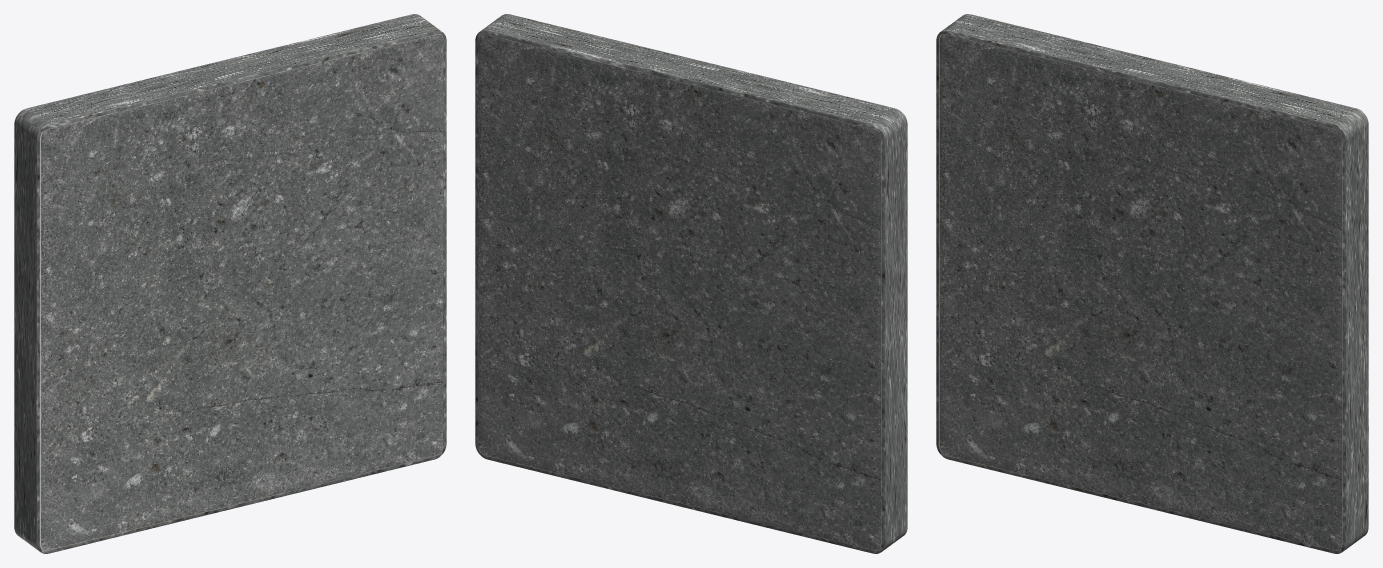
The model's file is andesite-darkgrey-polish.glb.
The picture shows the model from 3 angles, left to right: view 1: azimuth 30°, elevation 25°; view 2: azimuth 150°, elevation 25°; view 3: azimuth 330°, elevation 25°; orthographic projection.
Parts seen in each view (by area): view 1: Cube; view 2: Cube; view 3: Cube.
Part boxes in pixels (box(x1,y1,x2,y2)): Cube: box(14, 14, 446, 553); Cube: box(475, 14, 907, 553); Cube: box(936, 14, 1368, 553).
Size of the model in its own units: 0.1 by 0.1 by 0.01.
2 materials, 2 textured.
